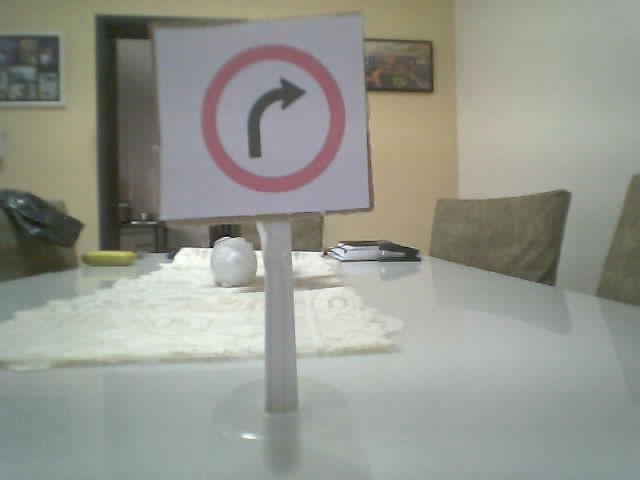R-25b_direita: (200, 43, 348, 193)
